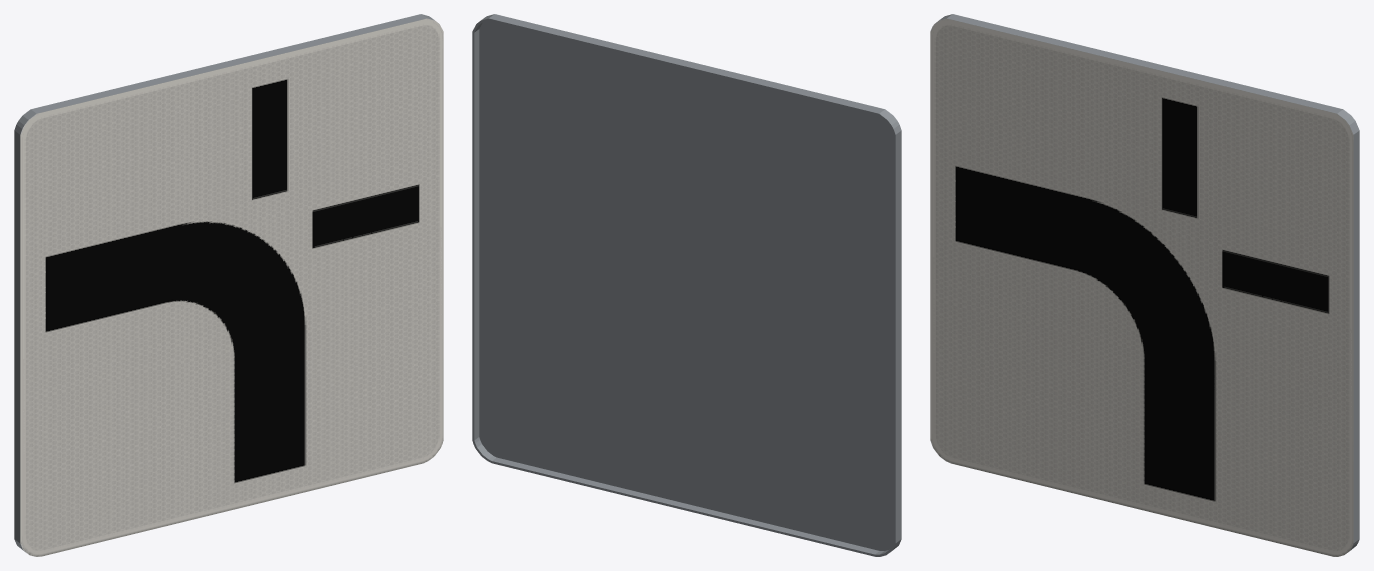
3 renders of one model, left to right at view 1: azimuth 30°, elevation 25°; view 2: azimuth 150°, elevation 25°; view 3: azimuth 330°, elevation 25°, orthographic.
Parts seen in each view (by area): view 1: cat_5c7f47690bfdbf65; view 2: cat_5c7f47690bfdbf65; view 3: cat_5c7f47690bfdbf65.
Boxes of the visible parts, bbox=[...] form: cat_5c7f47690bfdbf65: bbox=[14, 14, 443, 556]; cat_5c7f47690bfdbf65: bbox=[472, 14, 901, 556]; cat_5c7f47690bfdbf65: bbox=[930, 14, 1359, 556].
Bounding box in the file's own units: 0.6 × 0.015 × 0.6015.
Materials: 2 (1 with a texture image).
